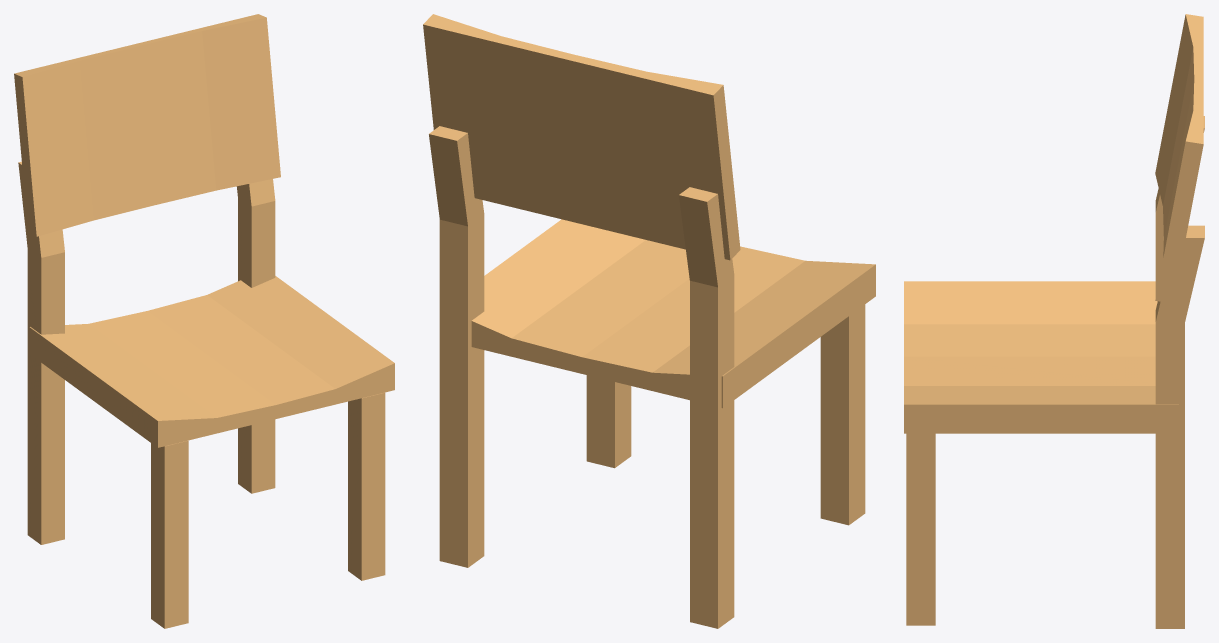
The model's file is chair.glb.
The picture shows the model from 3 angles, left to right: view 1: azimuth 30°, elevation 25°; view 2: azimuth 150°, elevation 25°; view 3: azimuth 270°, elevation 25°; orthographic projection. The views are drawn at different scales.
Visible parts, largest first — view 1: Cube.005, Cube, Cube.002, Cube.004, Cube.003, Cube.001; view 2: Cube.005, Cube, Cube.001, Cube.002, Cube.004, Cube.003; view 3: Cube, Cube.001, Cube.005, Cube.003, Cube.002.
Part boxes in pixels (left/top/right/bottom): Cube.005: left=14, top=14, right=280, bottom=236; Cube: left=29, top=276, right=394, bottom=447; Cube.002: left=18, top=161, right=64, bottom=544; Cube.004: left=151, top=440, right=188, bottom=628; Cube.003: left=348, top=392, right=385, bottom=580; Cube.001: left=236, top=179, right=275, bottom=493; Cube.005: left=423, top=14, right=740, bottom=260; Cube: left=471, top=219, right=875, bottom=408; Cube.001: left=429, top=126, right=484, bottom=567; Cube.002: left=679, top=187, right=734, bottom=628; Cube.004: left=820, top=304, right=865, bottom=525; Cube.003: left=586, top=375, right=631, bottom=468; Cube: left=904, top=281, right=1178, bottom=433; Cube.001: left=1155, top=225, right=1204, bottom=628; Cube.005: left=1155, top=14, right=1203, bottom=303; Cube.003: left=906, top=433, right=935, bottom=625; Cube.002: left=1155, top=116, right=1204, bottom=297.
Bounding box in the file's own units: 2.19 × 3.94 × 2.19.
